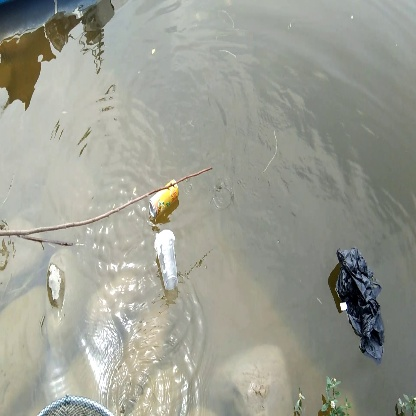bottle: (151, 228, 182, 291), (149, 179, 187, 223)
plastic-bag: (330, 241, 393, 365)
